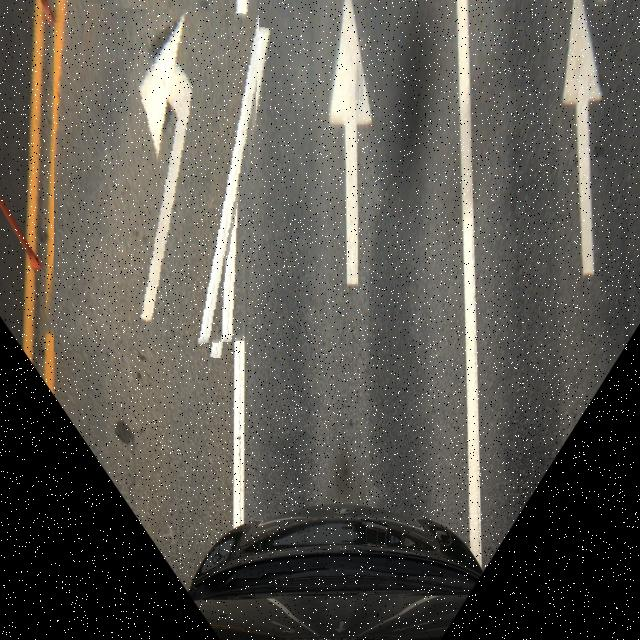left: (54, 9, 260, 353)
